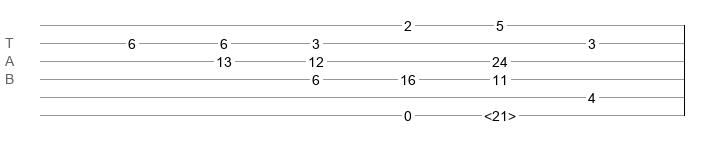0: (404, 108, 412, 118)
11: (492, 72, 508, 82)
12: (308, 54, 324, 64)
13: (216, 54, 232, 64)
16: (400, 72, 416, 82)
2: (404, 18, 412, 28)
24: (492, 54, 508, 64)
3: (312, 36, 320, 46), (588, 36, 596, 46)
4: (588, 90, 596, 100)
5: (496, 18, 504, 28)
6: (128, 36, 136, 46), (220, 36, 228, 46), (312, 72, 320, 82)
harmonic: (484, 108, 516, 118)
